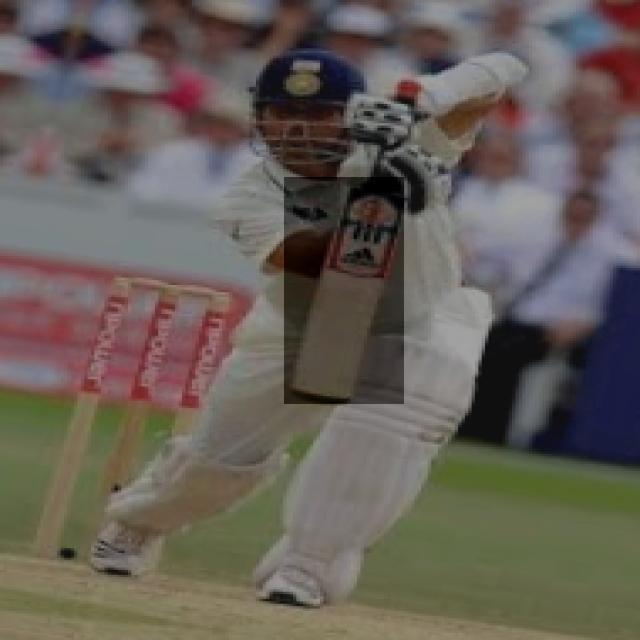bat: (284, 178, 403, 403)
toe: (286, 379, 337, 406)
